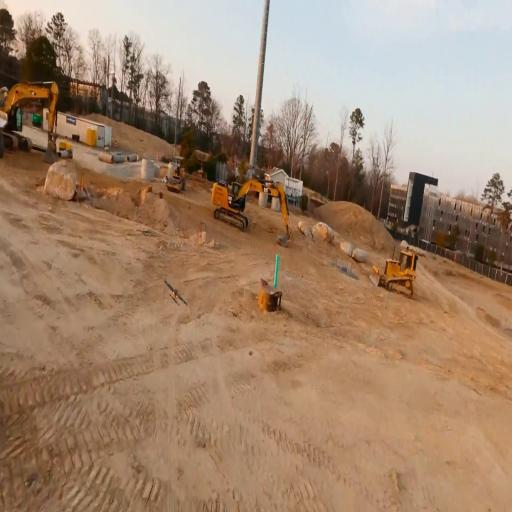uav: (162, 277, 190, 315)
